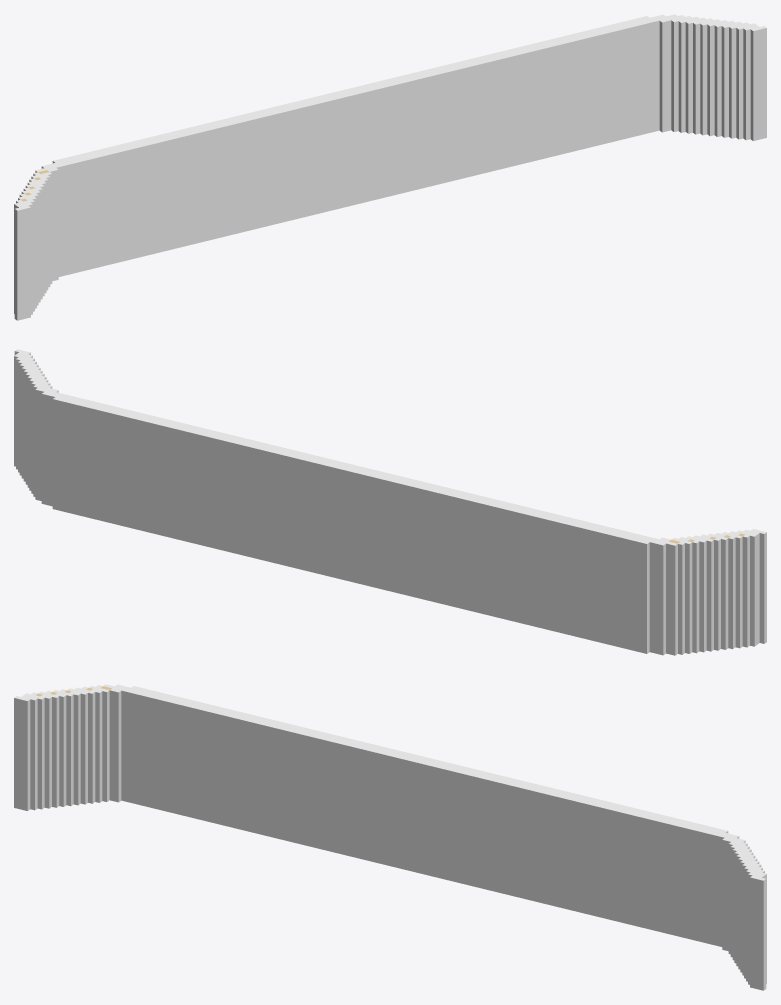
File: window.obj
The picture shows the model from 3 angles, top to bottom: view 1: azimuth 30°, elevation 25°; view 2: azimuth 150°, elevation 25°; view 3: azimuth 330°, elevation 25°; orthographic projection.
Bounding box in the file's own units: 16.4 × 2.3 × 1.6.
Materials: 1 (1 with a texture image).
